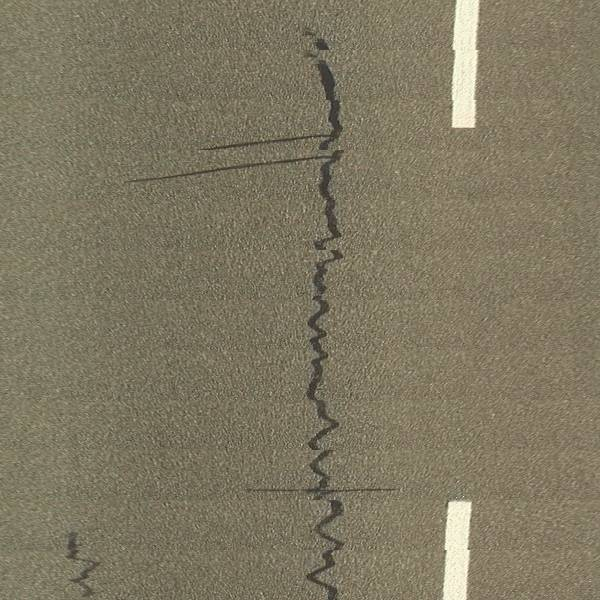road_damage: (296, 24, 349, 600), (125, 153, 344, 185), (61, 530, 101, 600)
